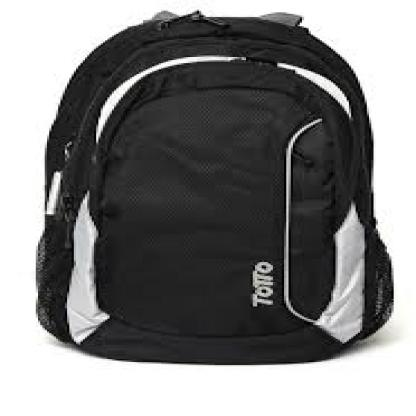morral: (22, 5, 405, 372)
